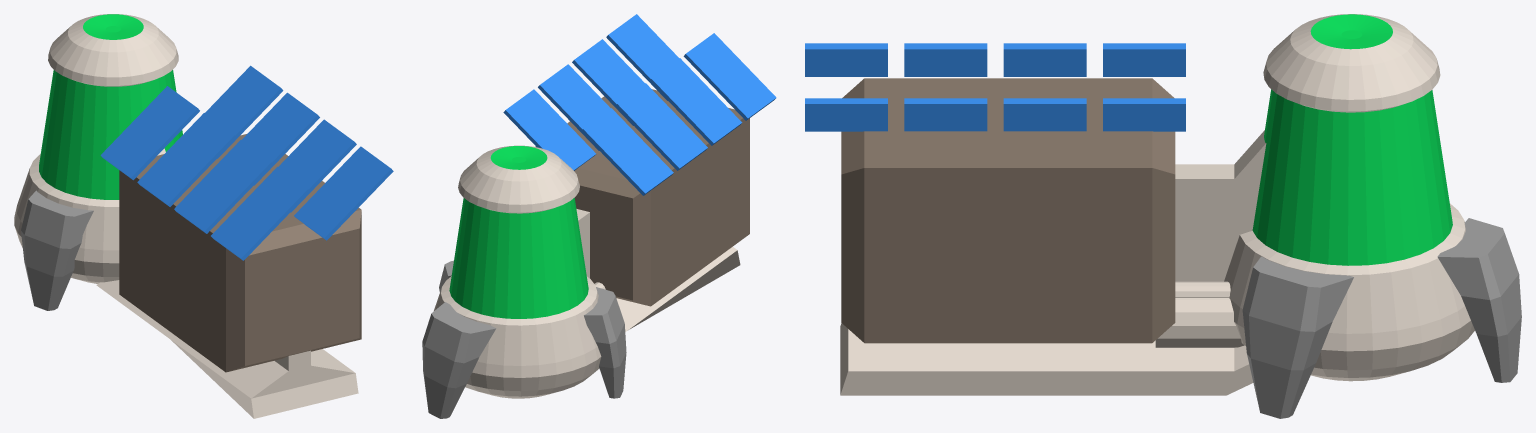
Rendered from greenbuilding.fbx.
3 views of the same model, side by side, from view 1: azimuth 30°, elevation 25°; view 2: azimuth 150°, elevation 25°; view 3: azimuth 270°, elevation 25° (orthographic). The views are drawn at different scales.
Parts seen in each view (by area): view 1: Cylinder.009; view 2: Cylinder.009; view 3: Cylinder.009.
Part boxes in pixels (left/top/right/bottom): Cylinder.009: left=14, top=14, right=393, bottom=418; Cylinder.009: left=422, top=14, right=776, bottom=418; Cylinder.009: left=805, top=14, right=1521, bottom=418.
Bounding box in the file's own units: 603 × 1403 × 717.
